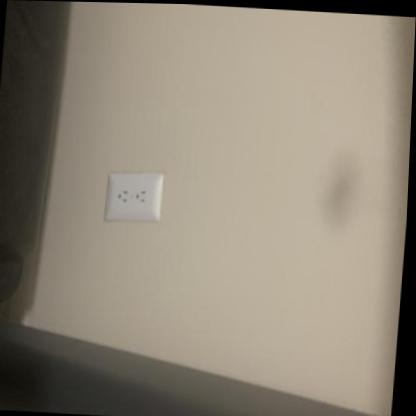OUTLET: (105, 168, 165, 222)
